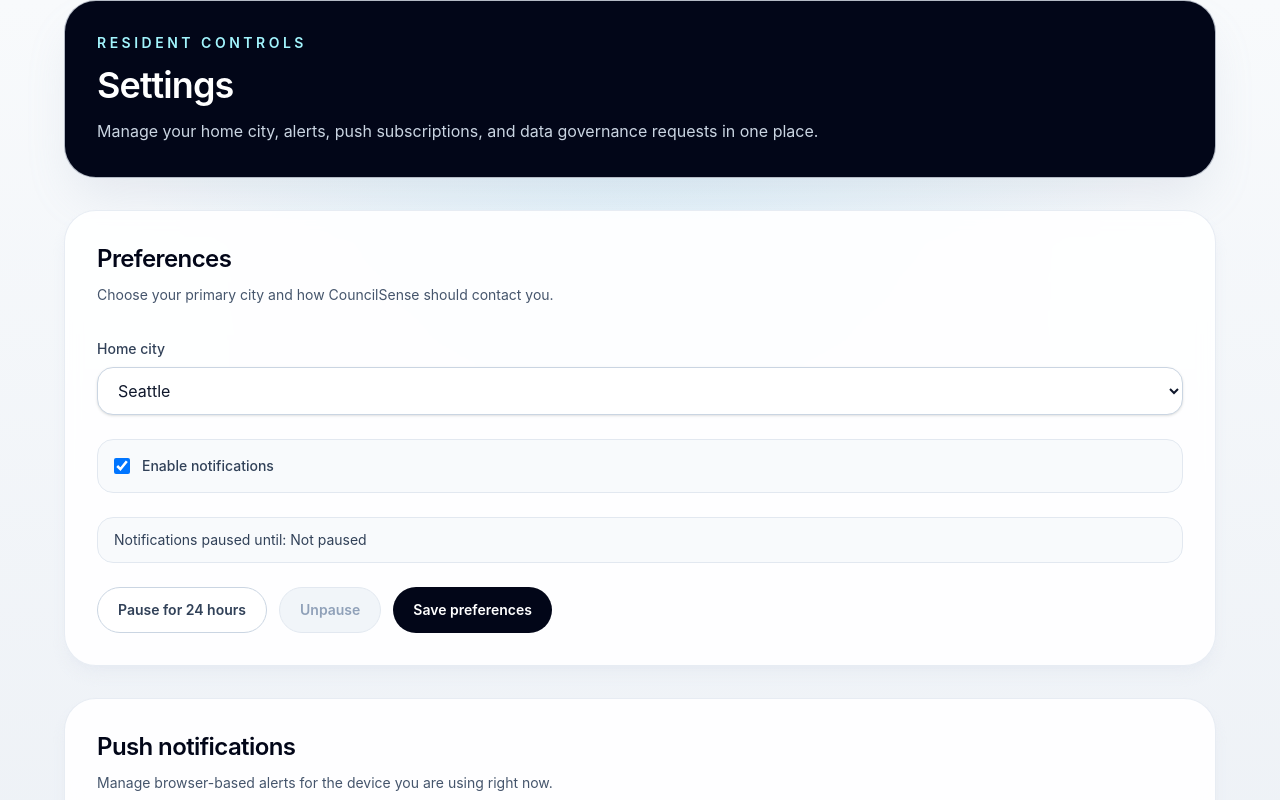
SettingsPreferencesForm › shows validation error when backend rejects payload
Click the button "Save preferences": {"x": 473, "y": 610} [393,587,552,633]
(page scrolled)
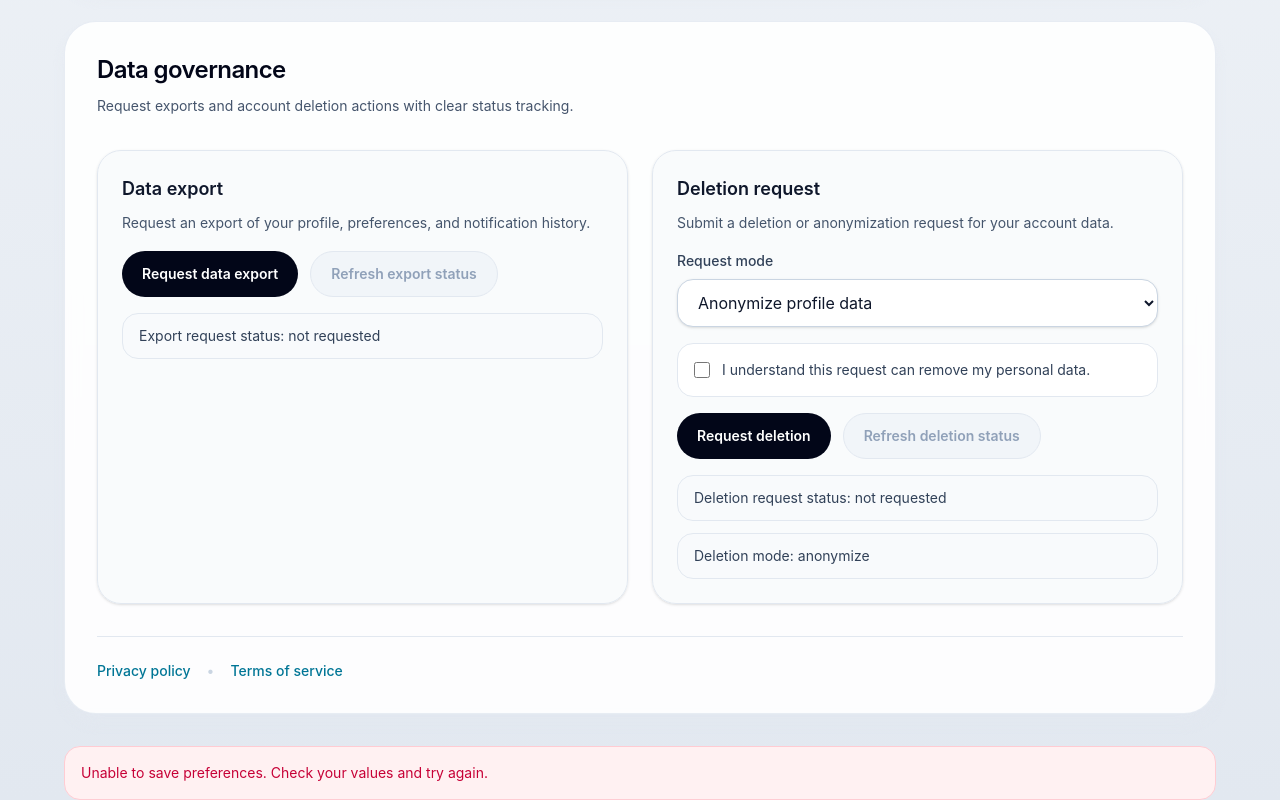
Expected: the message reads "Unable to save preferences. Check your values and try again.", [81,764,488,781]
